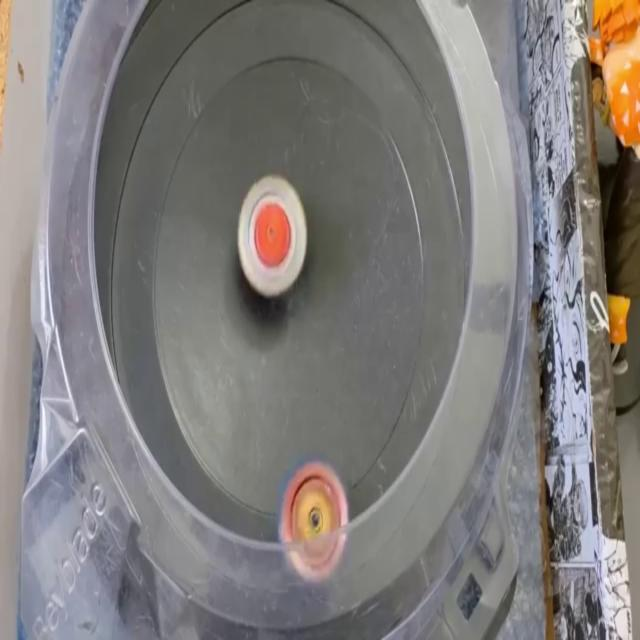Beyblade: (277, 458, 352, 590), (238, 175, 308, 296)
